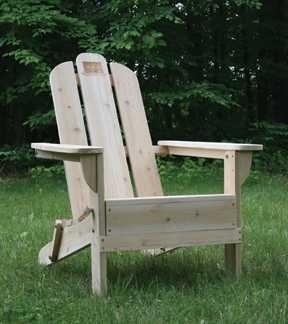obstacle: (31, 53, 262, 294)
